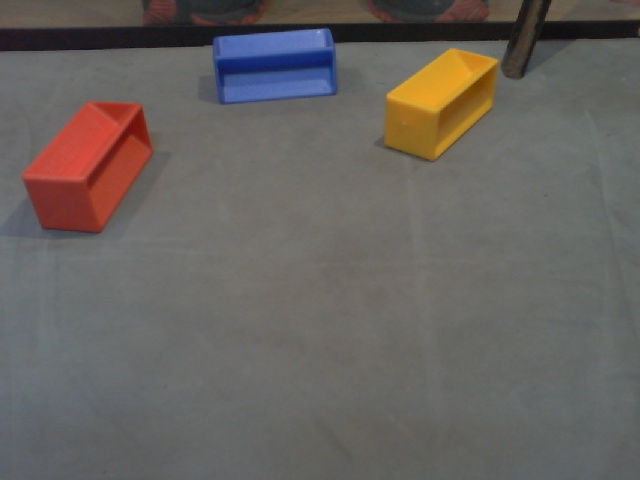BlueSample: (210, 25, 344, 112)
RedSample: (21, 98, 155, 239)
YellowSample: (381, 45, 498, 165)
